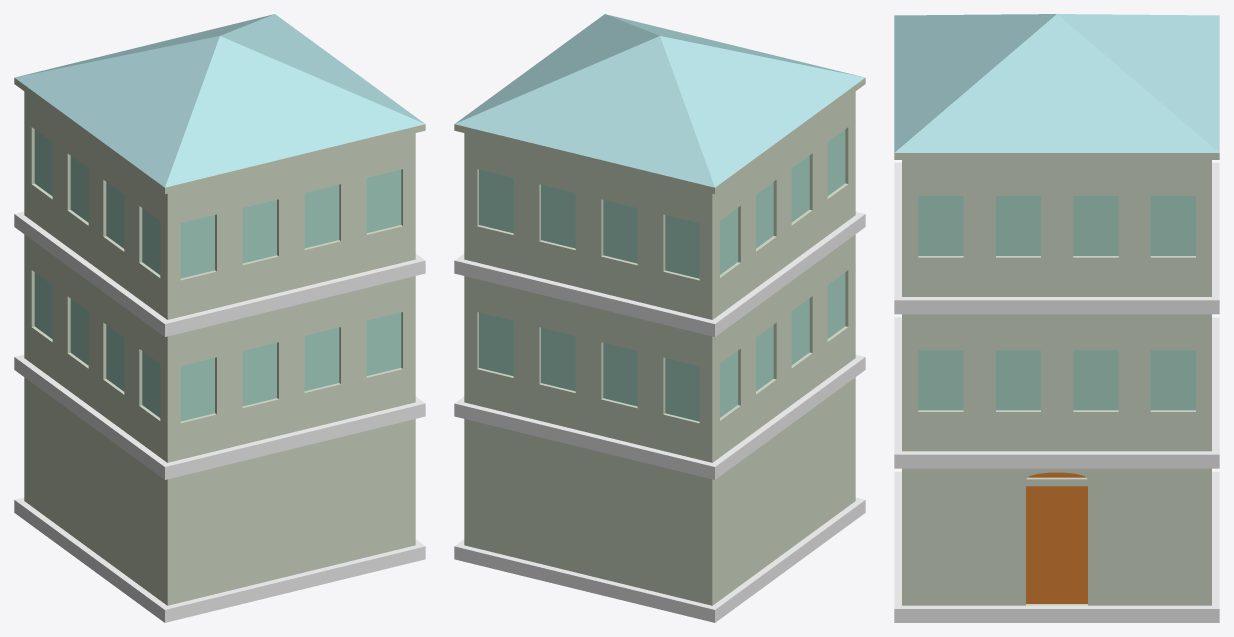
Rendered from building2.fbx.
The picture shows the model from 3 angles, left to right: view 1: azimuth 30°, elevation 25°; view 2: azimuth 150°, elevation 25°; view 3: azimuth 270°, elevation 25°; orthographic projection. The views are drawn at different scales.
Visible parts, largest first — view 1: building_004.001; view 2: building_004.001; view 3: building_004.001.
Boxes of the visible parts, x1,y1,x2,y2 form: building_004.001: (14,14,425,622); building_004.001: (454,14,865,622); building_004.001: (894,14,1219,622).
Bounding box in the file's own units: 4.2 × 7.7 × 4.2.
